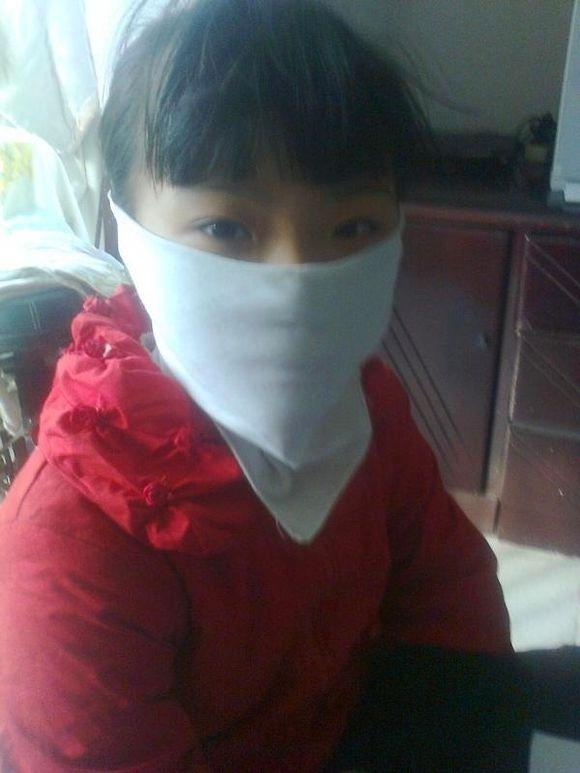OK: (134, 151, 414, 433)
